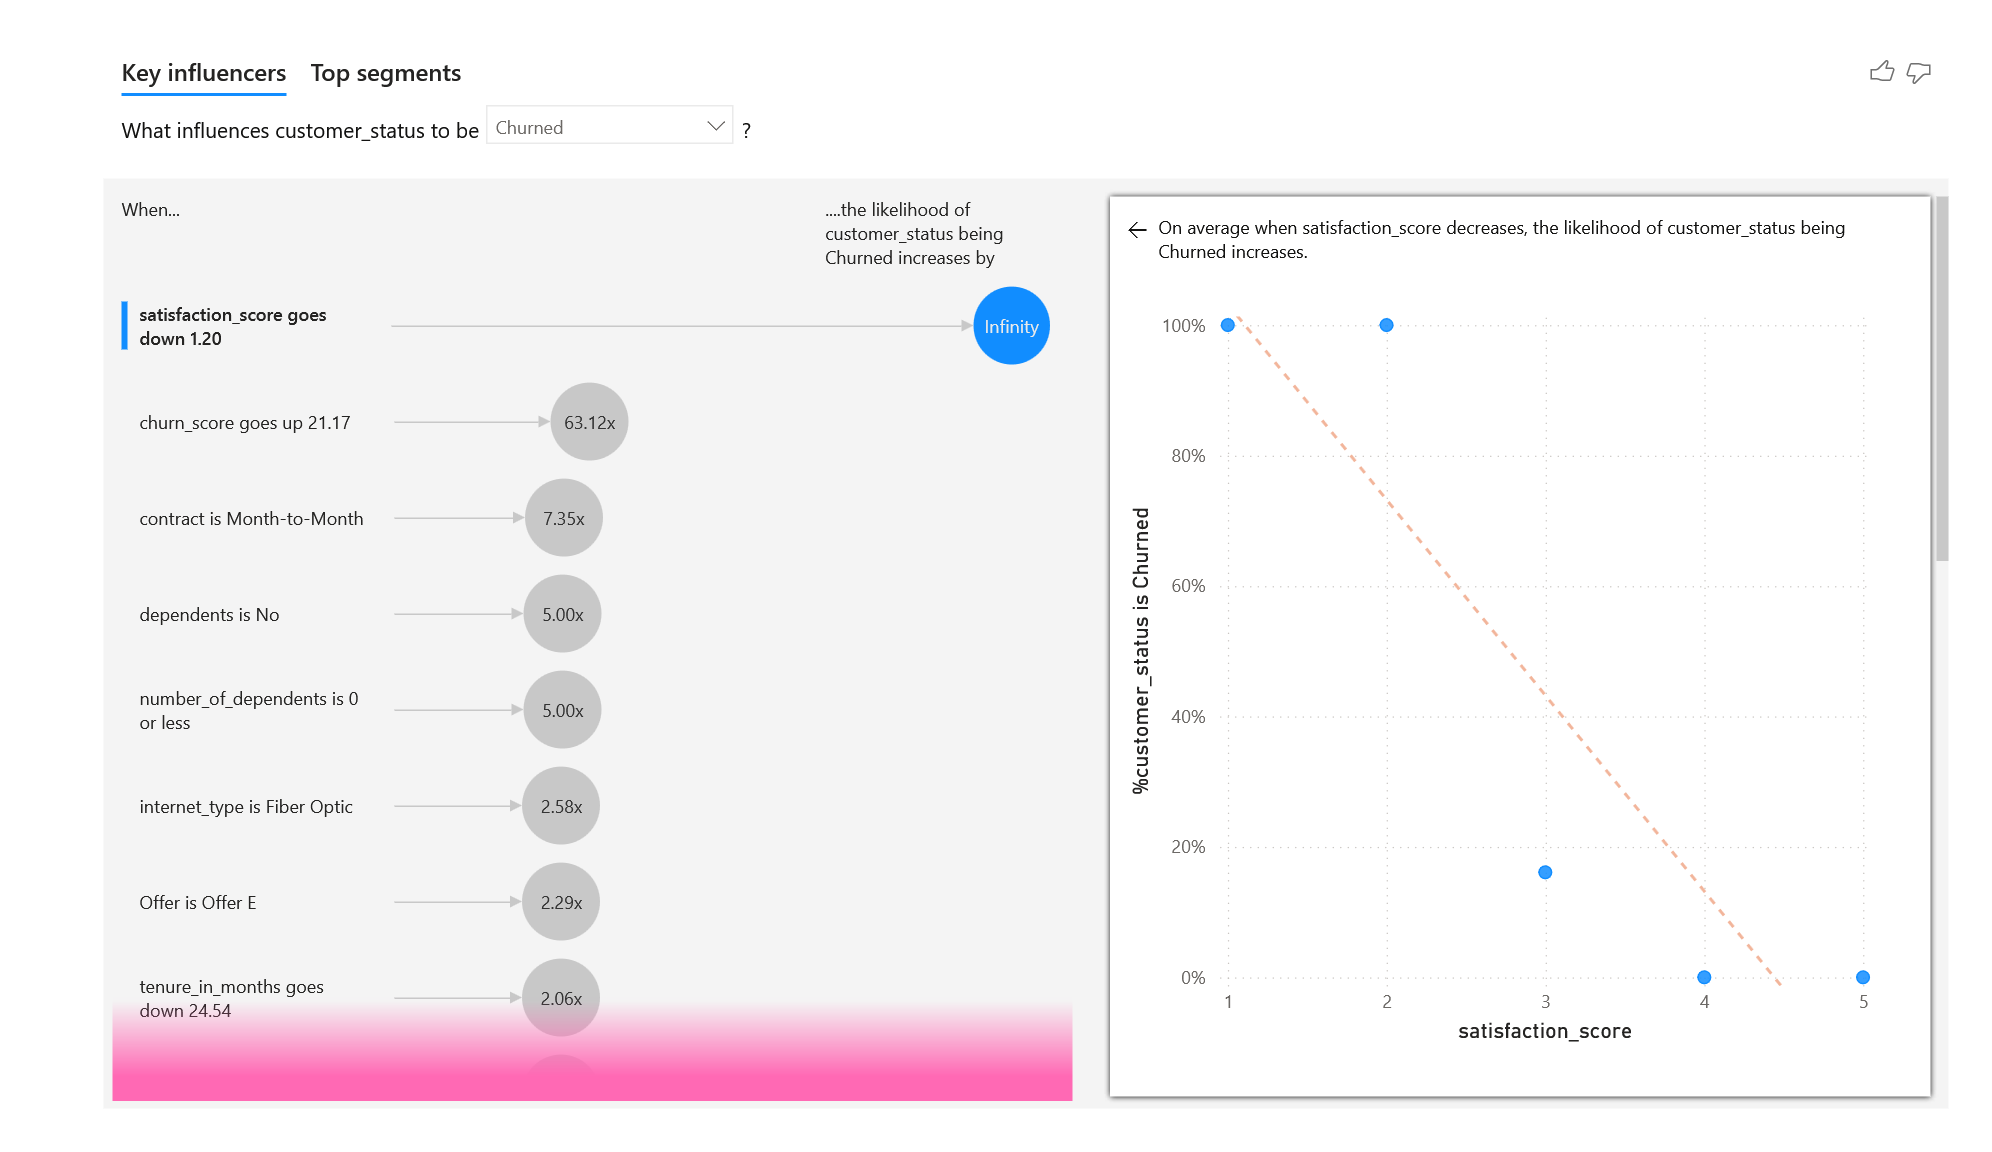

Layout of this report page (visuals, bound fields, positions):
{"tool":"powerbi","page":{"name":"Page 4","canvas":[1280,720],"ordinal":3},"visuals":[{"type":"keyDriversVisual","fields":{"Target":["telco_customer_churn telco_customer_churn_status.customer_status"],"ExplainBy":["telco_customer_churn telco_customer_churn_services.contract","telco_customer_churn telco_customer_churn_services.tenure_in_months","telco_customer_churn telco_customer_churn_services.internet_type","telco_customer_churn telco_customer_churn_status.satisfaction_score","telco_customer_churn telco_customer_churn_demographics.age","telco_customer_churn telco_customer_churn_services.number_of_referrals","Customer_Service_Count.Services Taken","telco_customer_churn telco_customer_churn_demographics.gender","telco_customer_churn telco_customer_churn_demographics.dependents","telco_customer_churn telco_customer_churn_demographics.married","telco_customer_churn telco_customer_churn_demographics.number_of_dependents","telco_customer_churn telco_customer_churn_demographics.senior_citizen"]},"box":[40,0,1240,720],"z":1}]}

Visuals, with their boxes in screenshot pixels (x1, y1, x2, y2), scaled from the page's 1280x720 canvas onto the 1992x1152 screenshot:
keyDriversVisual - telco_customer_churn telco_customer_churn_status.customer_status x telco_customer_churn telco_customer_churn_services.contract: box(62, 0, 1991, 1151)
